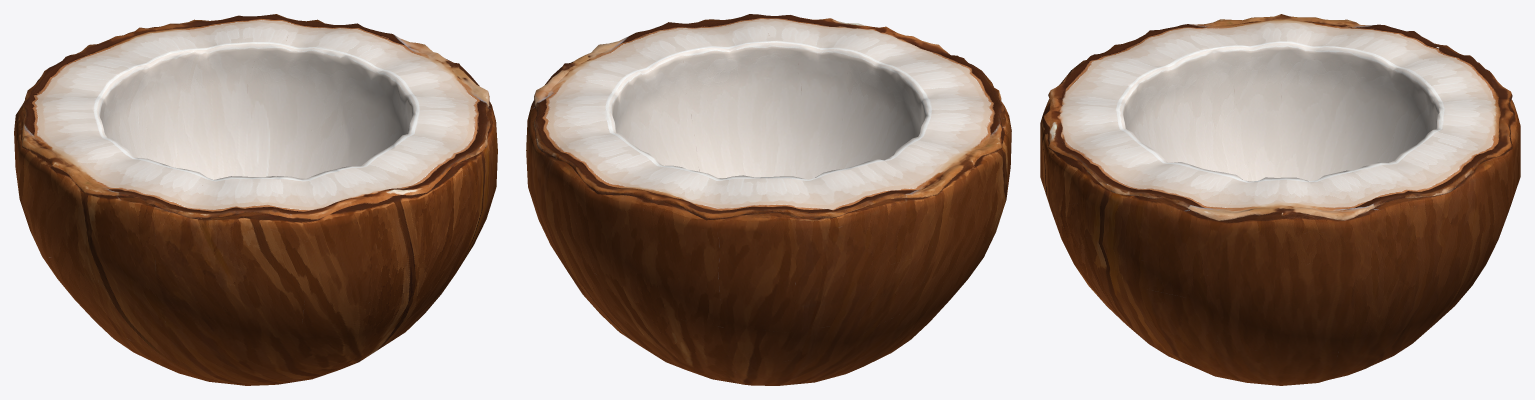
File: Meshy_AI_Coconut_Bowl_20261026_texture.fbx
The picture shows the model from 3 angles, left to right: view 1: azimuth 30°, elevation 25°; view 2: azimuth 150°, elevation 25°; view 3: azimuth 270°, elevation 25°; orthographic projection.
Visible parts, largest first — view 1: Mesh_0; view 2: Mesh_0; view 3: Mesh_0.
Part boxes in pixels (box(x1,y1,x2,y2)): Mesh_0: box(14, 14, 497, 385); Mesh_0: box(526, 14, 1011, 385); Mesh_0: box(1040, 14, 1520, 385).
Bounding box in the file's own units: 100 × 58.83 × 100.
Materials: 1 (1 with a texture image).
